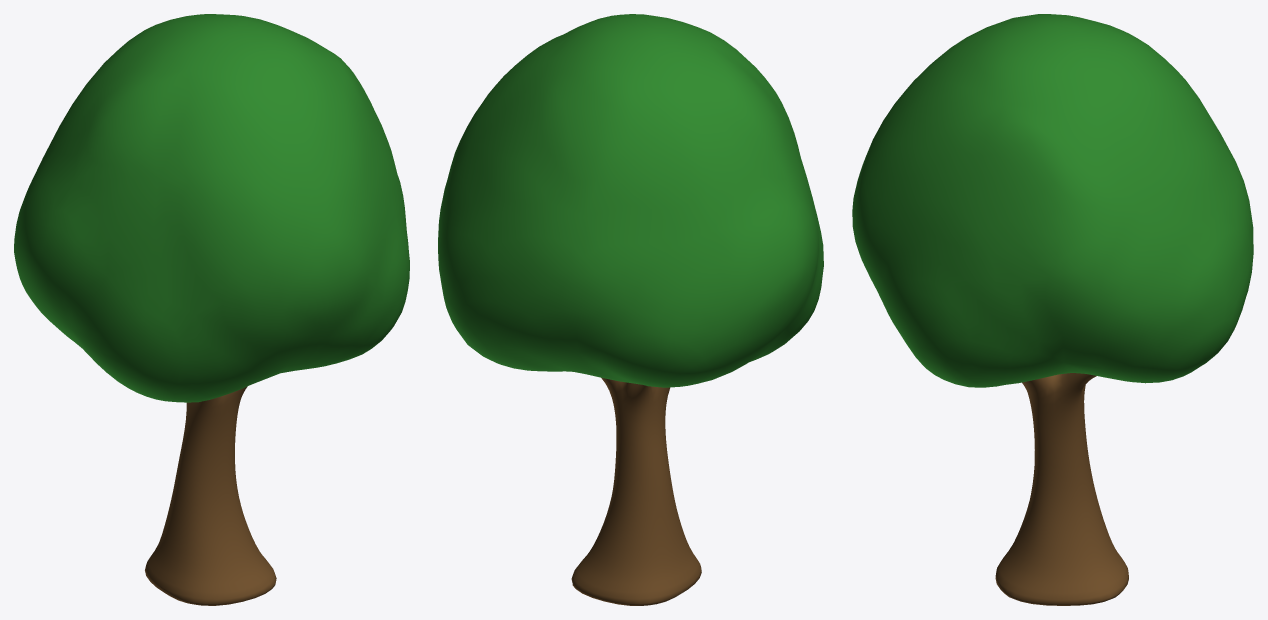
Rendered from arbre.fbx.
3 views of the same model, side by side, from view 1: azimuth 30°, elevation 25°; view 2: azimuth 150°, elevation 25°; view 3: azimuth 270°, elevation 25° (orthographic).
Parts seen in each view (by area): view 1: LowPoly Tree 01, LowPoly Tree 01.001; view 2: LowPoly Tree 01, LowPoly Tree 01.001; view 3: LowPoly Tree 01, LowPoly Tree 01.001.
Boxes of the visible parts, left/top/right/bottom form: LowPoly Tree 01: left=14, top=14, right=409, bottom=402; LowPoly Tree 01.001: left=145, top=386, right=276, bottom=605; LowPoly Tree 01: left=438, top=14, right=823, bottom=387; LowPoly Tree 01.001: left=571, top=377, right=701, bottom=605; LowPoly Tree 01: left=852, top=14, right=1253, bottom=387; LowPoly Tree 01.001: left=995, top=373, right=1128, bottom=605.
Bounding box in the file's own units: 528 × 802 × 522.
